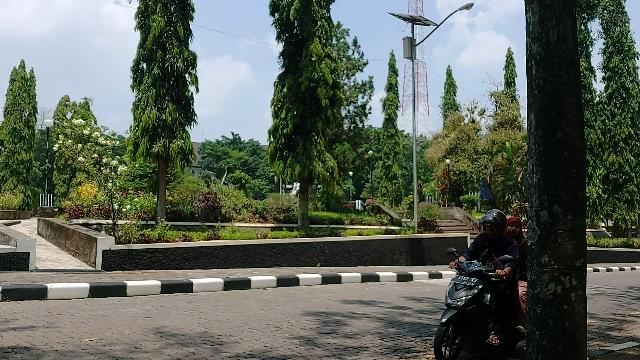helm: (478, 209, 508, 240)
motor: (434, 247, 529, 360)
non-helm: (506, 217, 525, 239)
